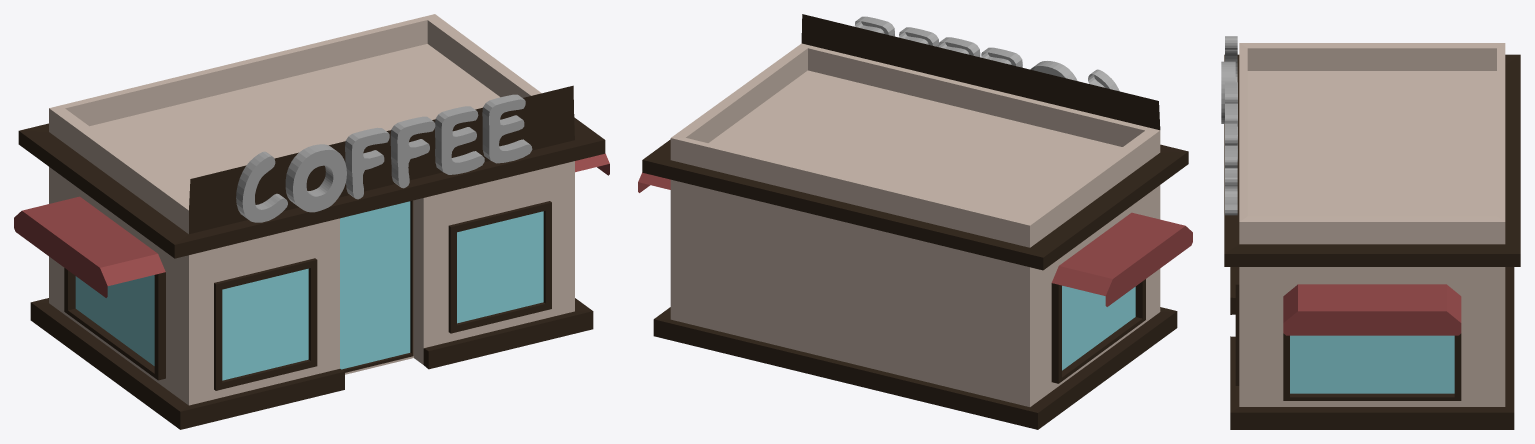
Rendered from CoffeeShopSansTasse.fbx.
3 views of the same model, side by side, from view 1: azimuth 30°, elevation 25°; view 2: azimuth 150°, elevation 25°; view 3: azimuth 270°, elevation 25° (orthographic). The views are drawn at different scales.
Visible parts, largest first — view 1: CoffeeShopSansTasse; view 2: CoffeeShopSansTasse; view 3: CoffeeShopSansTasse.
Part boxes in pixels (left/top/right/bottom): CoffeeShopSansTasse: left=14, top=14, right=609, bottom=429; CoffeeShopSansTasse: left=638, top=14, right=1192, bottom=429; CoffeeShopSansTasse: left=1221, top=36, right=1520, bottom=429.
Size of the model in its own units: 7.2 by 3.48 by 3.91.
